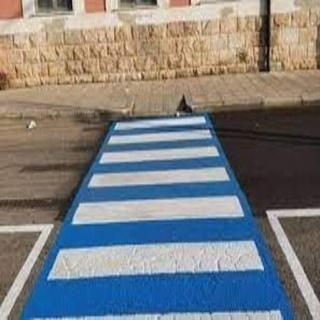road_crosswalk: (41, 112, 290, 314)
